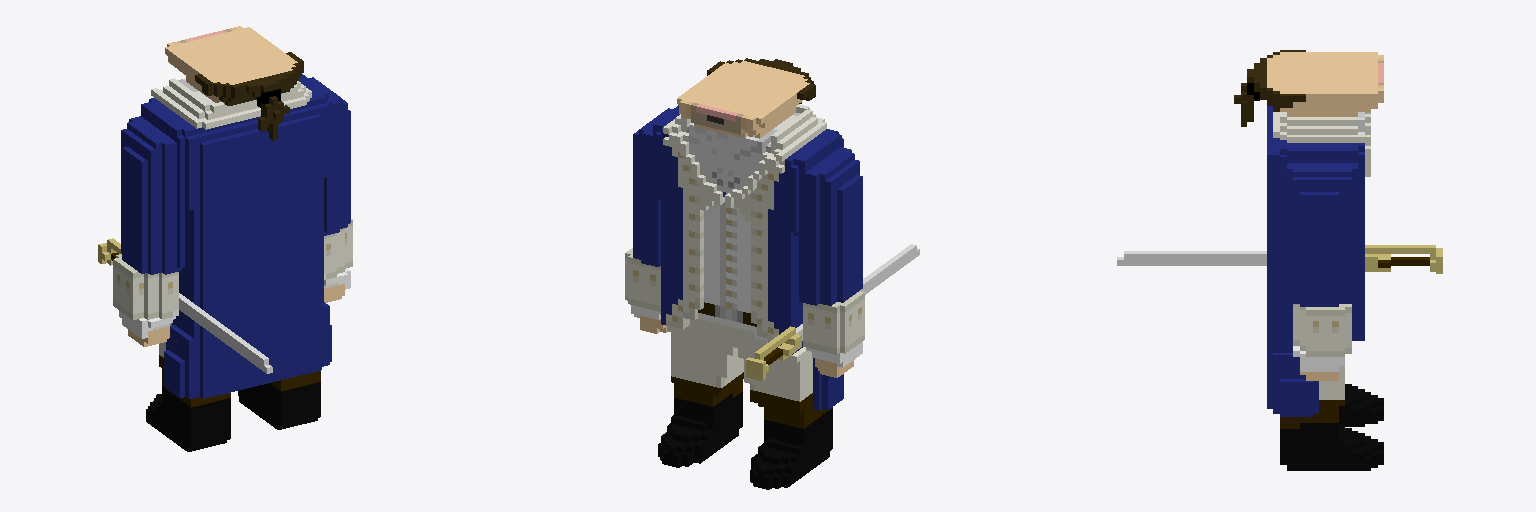
3 renders of one model, left to right at view 1: azimuth 30°, elevation 25°; view 2: azimuth 150°, elevation 25°; view 3: azimuth 270°, elevation 25°, orthographic.
Size of the model in its own units: 39 by 62 by 50.
Materials: 1 (1 with a texture image).